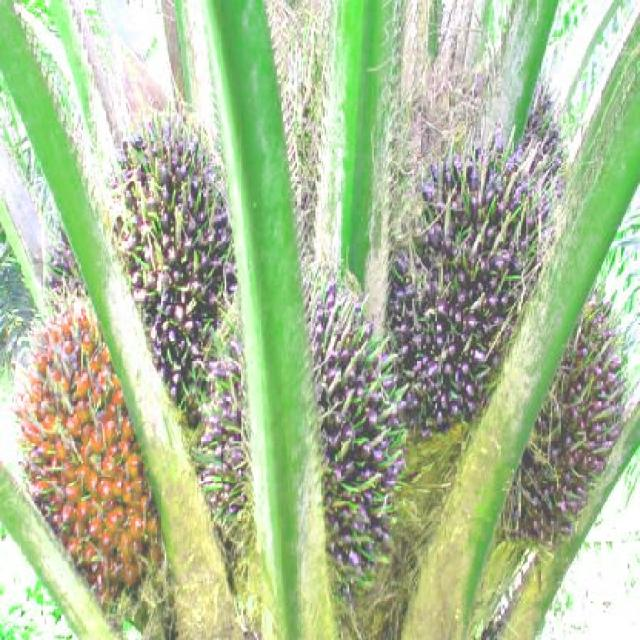palm-oil: (206, 259, 407, 565), (12, 304, 170, 612), (394, 122, 557, 410), (78, 124, 243, 374), (515, 269, 632, 555)
